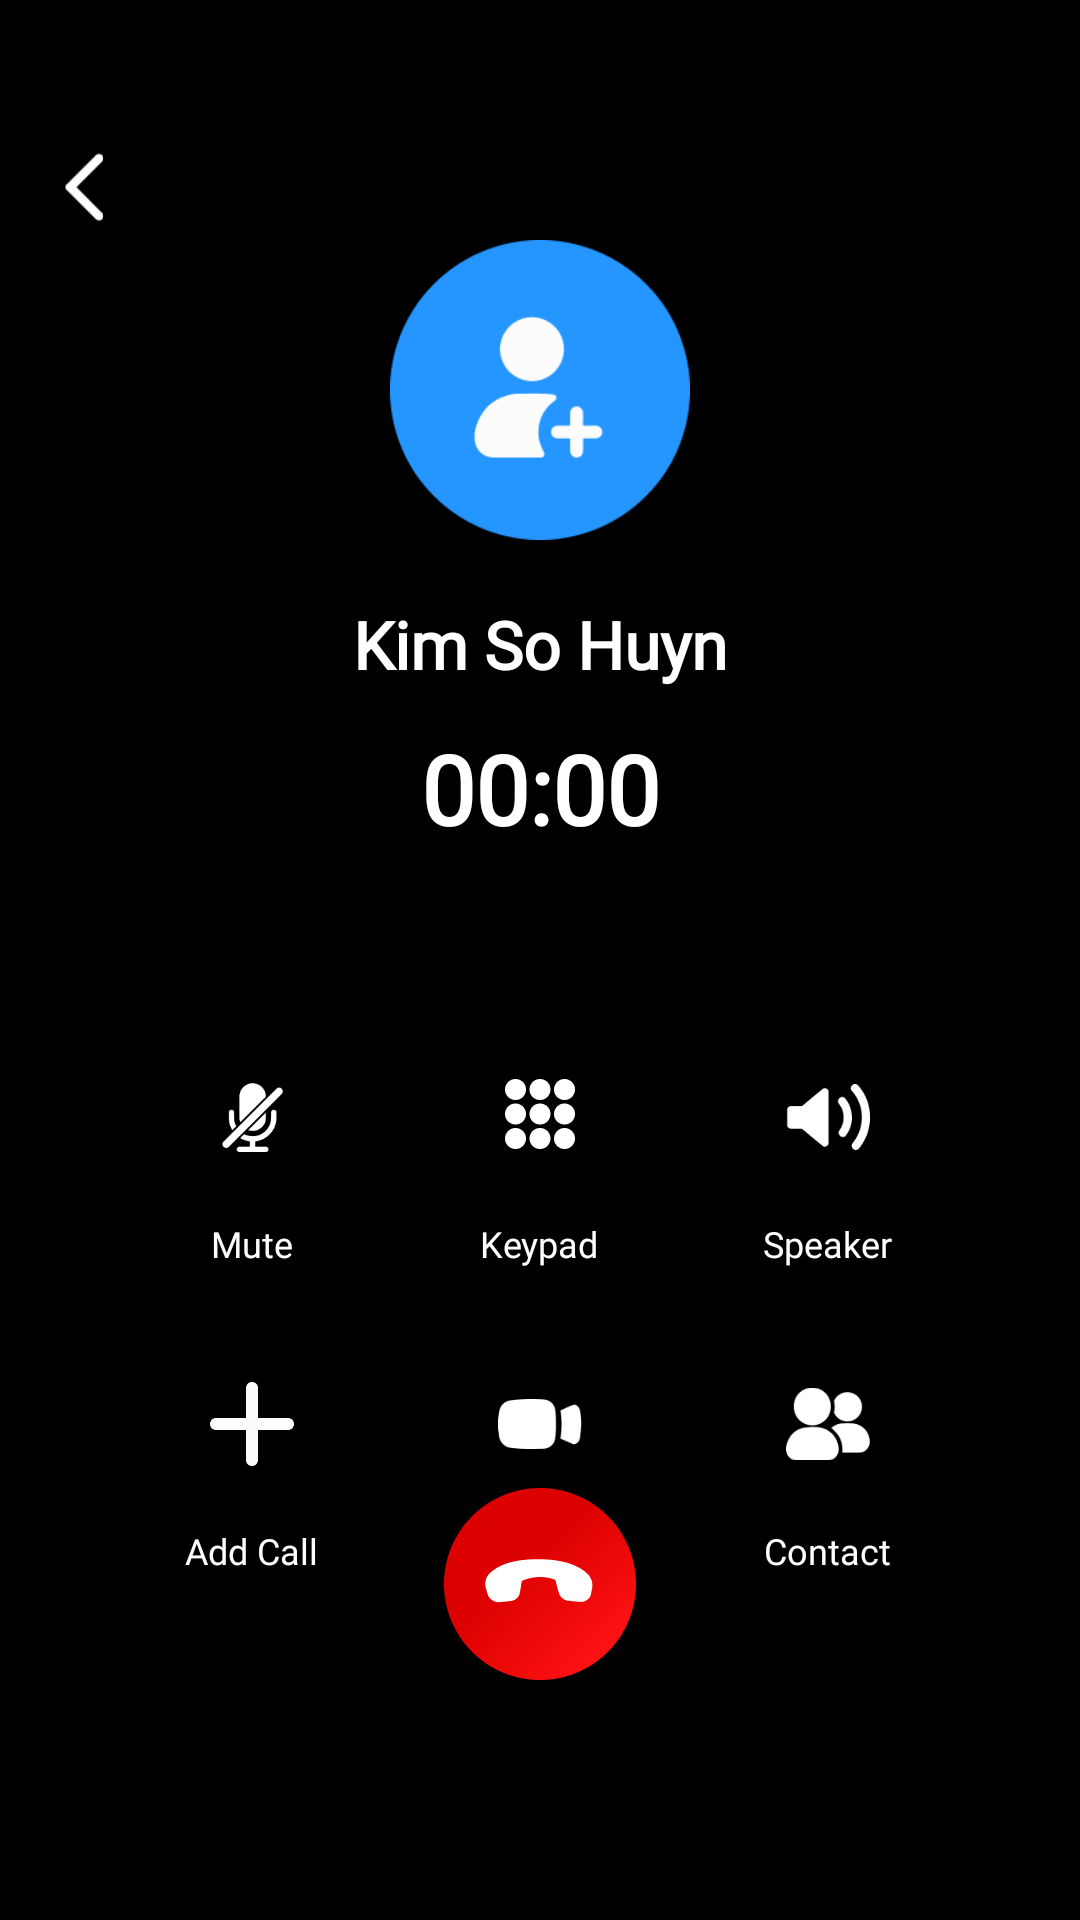

Named icons in this screenshot (1080w x 1920h) and their bounding boxes, (x1, y1, x2, y2):
addavatar: (390, 240, 690, 540)
arrowback addfakecall: (65, 153, 103, 221)
decline: (444, 1488, 636, 1680)
